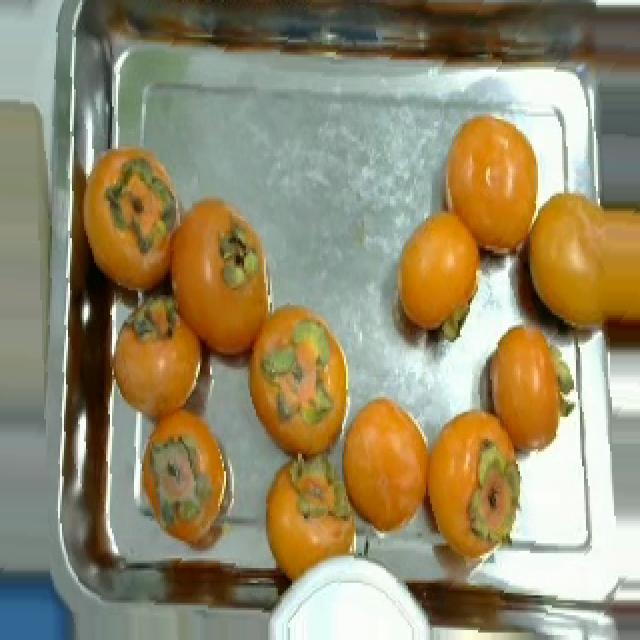Fruit: (404, 390, 542, 596), (236, 288, 356, 486), (520, 173, 640, 370), (428, 101, 544, 282), (378, 198, 498, 360), (336, 382, 446, 553), (470, 307, 574, 473), (0, 550, 86, 640)
